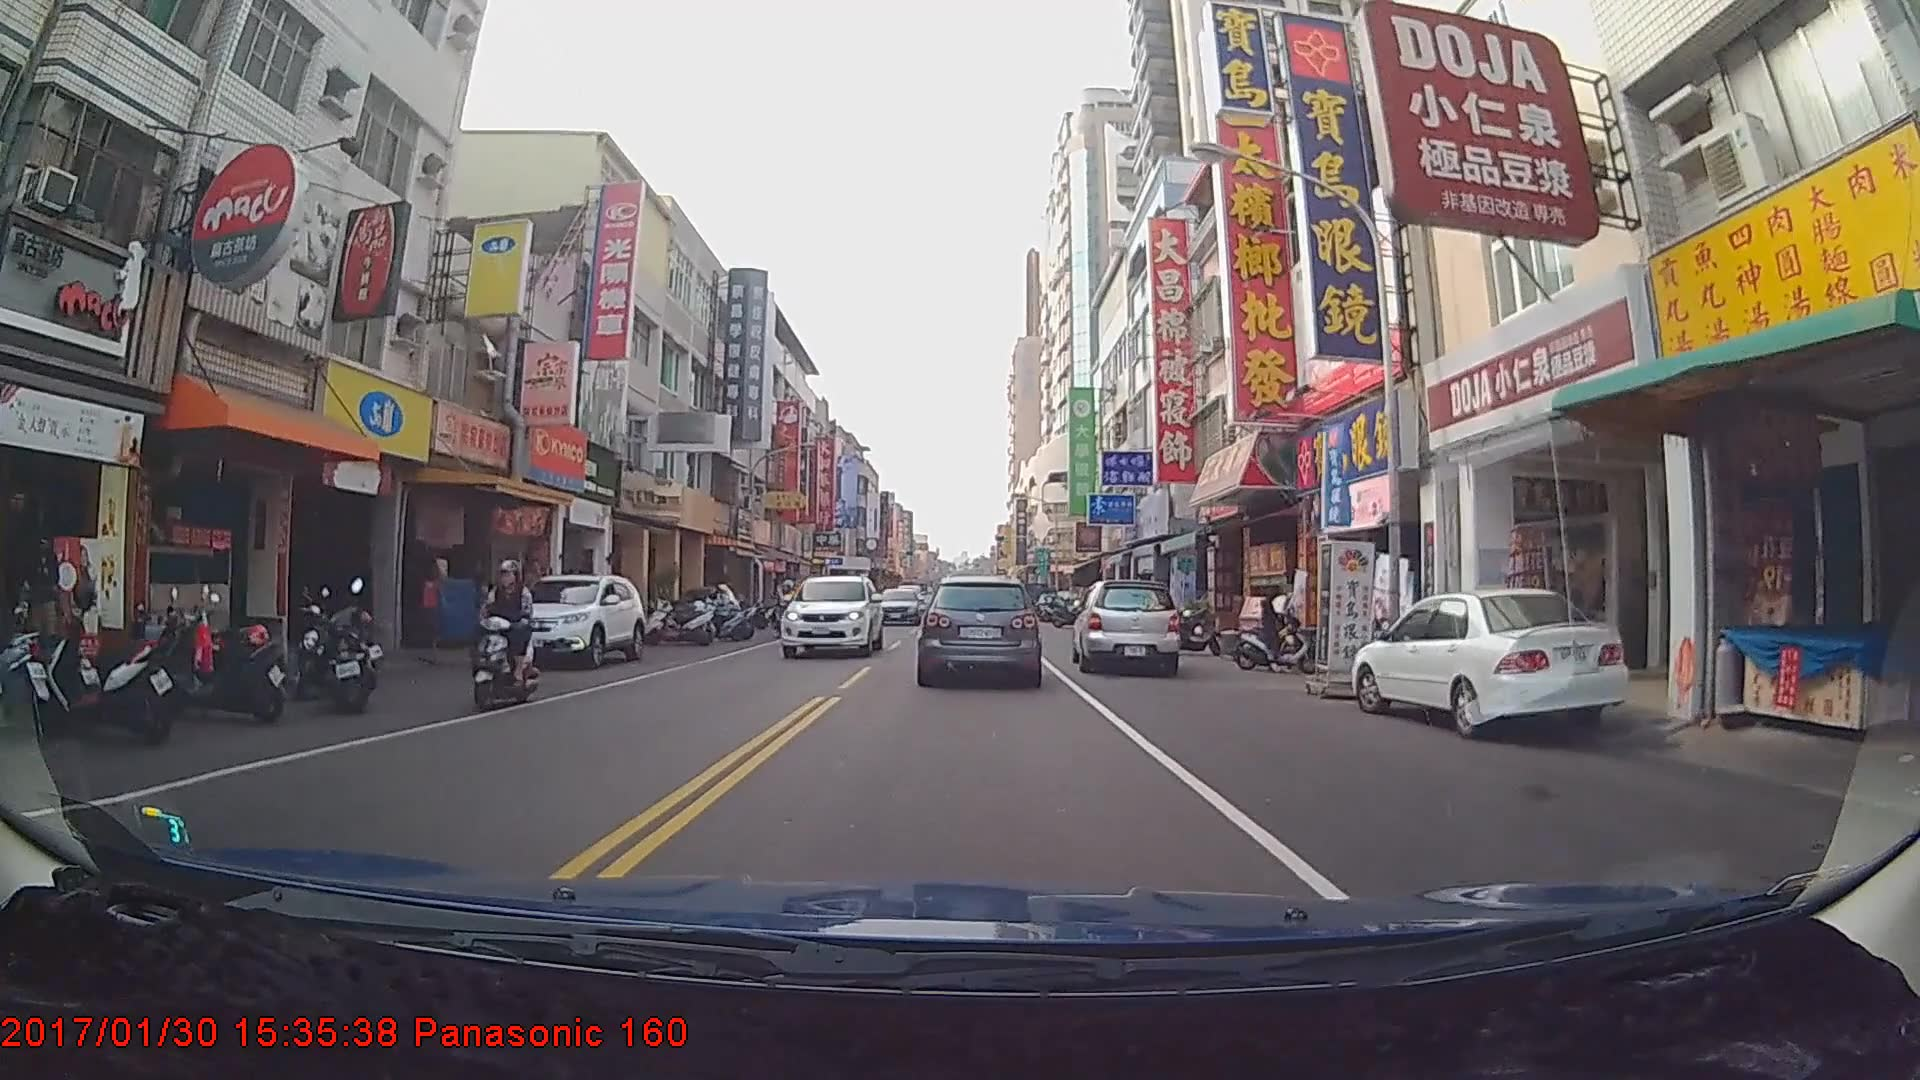rider: (471, 559, 545, 716), (1230, 579, 1325, 674)
vehicle: (1348, 588, 1631, 732), (490, 573, 643, 670), (920, 575, 1040, 685), (1073, 574, 1181, 674), (780, 572, 882, 657), (870, 585, 922, 625)
